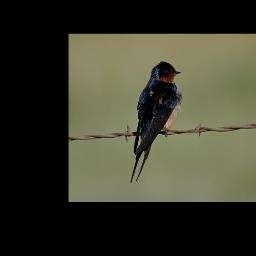Swallow: (128, 60, 182, 183)
